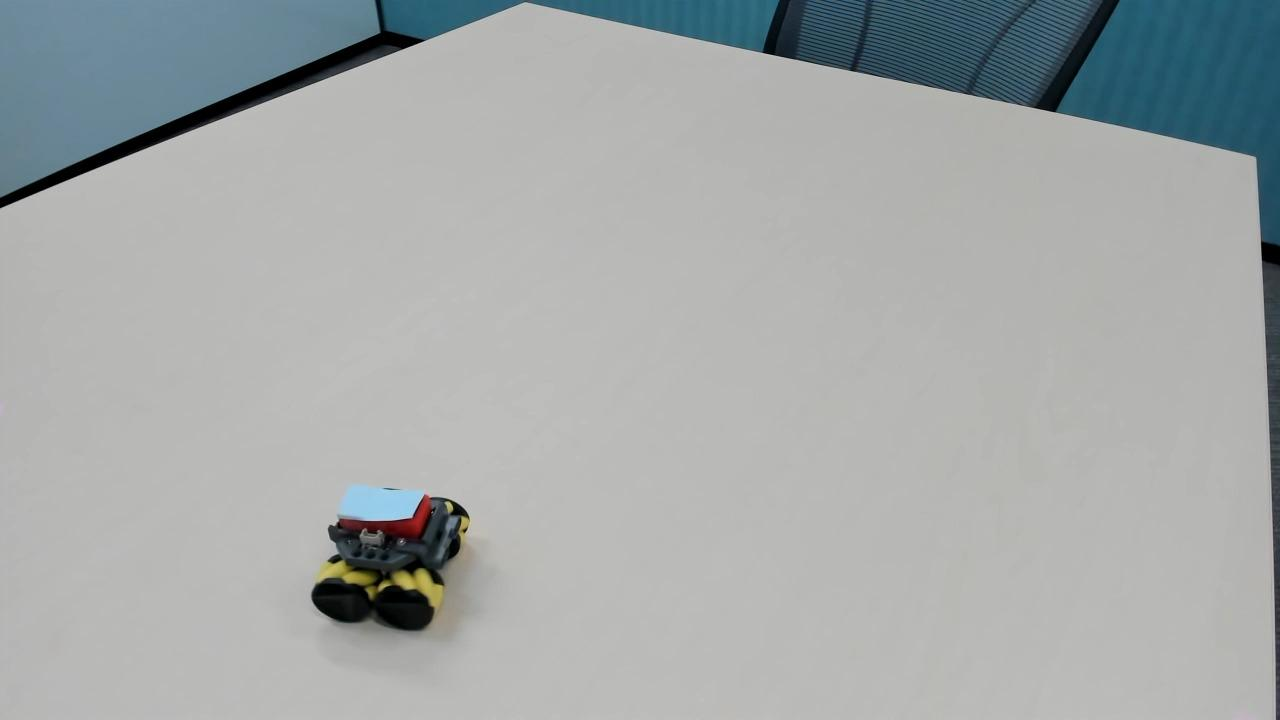B-Robot: (291, 468, 495, 654)
